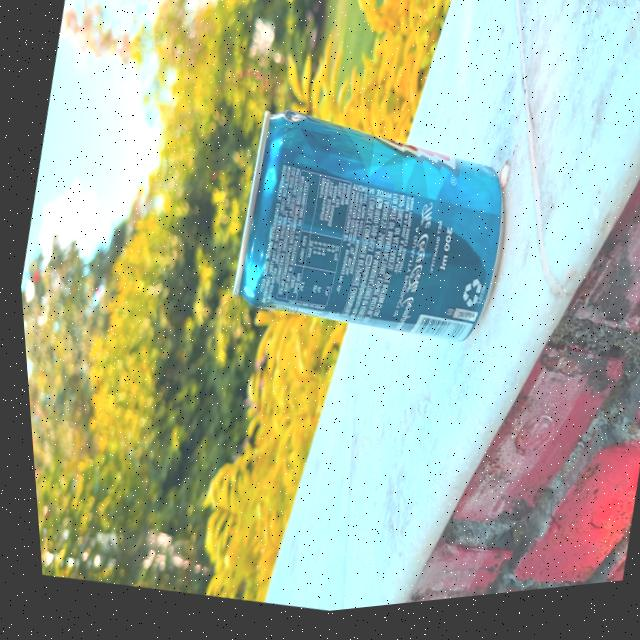Thums Up: (222, 96, 519, 379)
